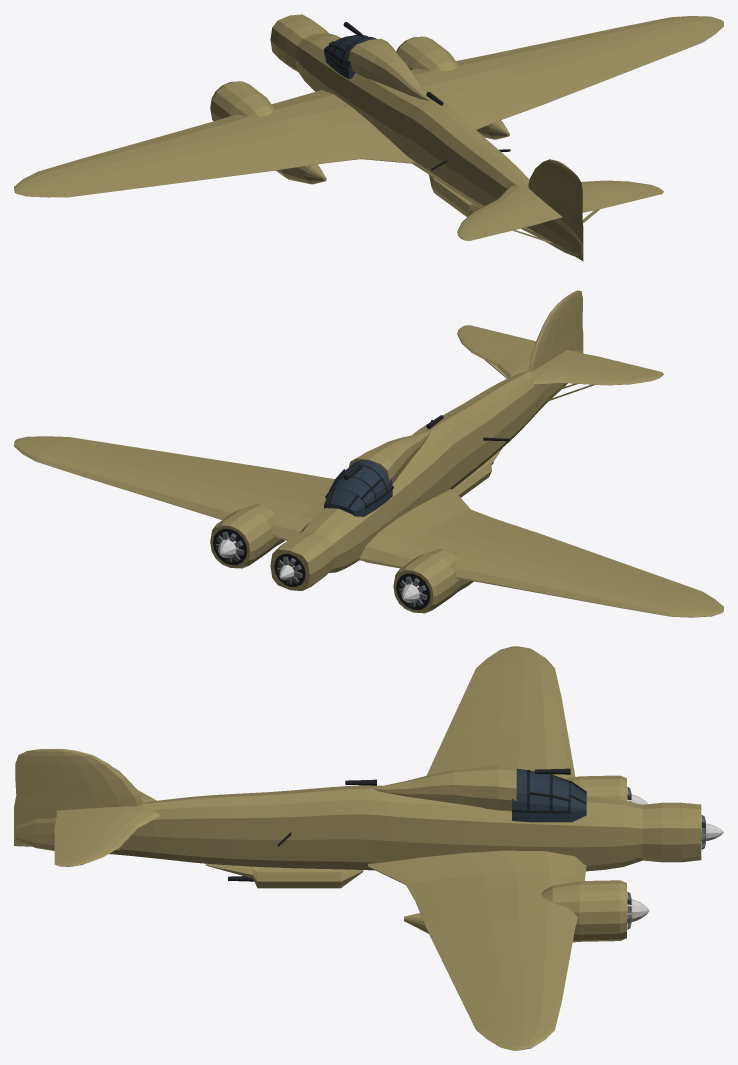
3 renders of one model, top to bottom at view 1: azimuth 30°, elevation 25°; view 2: azimuth 150°, elevation 25°; view 3: azimuth 270°, elevation 25°, orthographic. The views are drawn at different scales.
Parts seen in each view (by area): view 1: Fuselage, Wing L, Wing R, Nacelles, Flap L, Flap R, Gobbo, Stabilizer L, Aileron L, Vertical Fin, Aileron R, Elevator L (+5 smaller); view 2: Fuselage, Wing L, Wing R, Nacelles, Cockpit Glass, Stabilizer L, Flap L, Vertical Fin, Stabilizer R, Gobbo, Flap R, Cowl Face (+8 smaller); view 3: Fuselage, Wing R, Wing L, Nacelles, Vertical Fin, Gobbo, Flap R, Stabilizer R, Cockpit Glass, Gondola, Rudder, Aileron R (+4 smaller).
Boxes of the visible parts, box(x1,y1,x2,y2) form: Fuselage: box(270, 14, 582, 256); Wing L: box(14, 90, 414, 197); Wing R: box(411, 16, 723, 111); Nacelles: box(210, 36, 509, 184); Flap L: box(193, 139, 400, 179); Flap R: box(456, 72, 594, 129); Gobbo: box(348, 38, 430, 100); Stabilizer L: box(457, 185, 546, 238); Aileron L: box(42, 168, 198, 197); Vertical Fin: box(528, 159, 569, 226); Aileron R: box(588, 29, 714, 82); Elevator L: box(462, 204, 562, 240); Fuselage: box(270, 350, 582, 590); Wing L: box(359, 489, 723, 617); Wing R: box(14, 436, 329, 540); Nacelles: box(210, 504, 473, 613); Cockpit Glass: box(324, 460, 392, 516); Stabilizer L: box(531, 358, 661, 385); Flap L: box(436, 494, 593, 558); Vertical Fin: box(528, 294, 571, 371); Stabilizer R: box(457, 327, 532, 377); Gobbo: box(349, 430, 430, 483); Flap R: box(194, 458, 334, 488); Cowl Face: box(213, 528, 430, 609); Fuselage: box(16, 785, 701, 871); Wing R: box(368, 850, 586, 1050); Wing L: box(443, 646, 575, 778); Nacelles: box(404, 775, 626, 942); Vertical Fin: box(45, 749, 143, 818); Gobbo: box(374, 765, 516, 811); Flap R: box(375, 862, 472, 961); Stabilizer R: box(63, 806, 160, 866); Cockpit Glass: box(512, 768, 586, 822); Gondola: box(205, 863, 363, 888); Rudder: box(14, 749, 45, 846); Aileron R: box(445, 962, 500, 1039).
Size of the model in its own units: 21.2 by 3.52 by 15.75.
